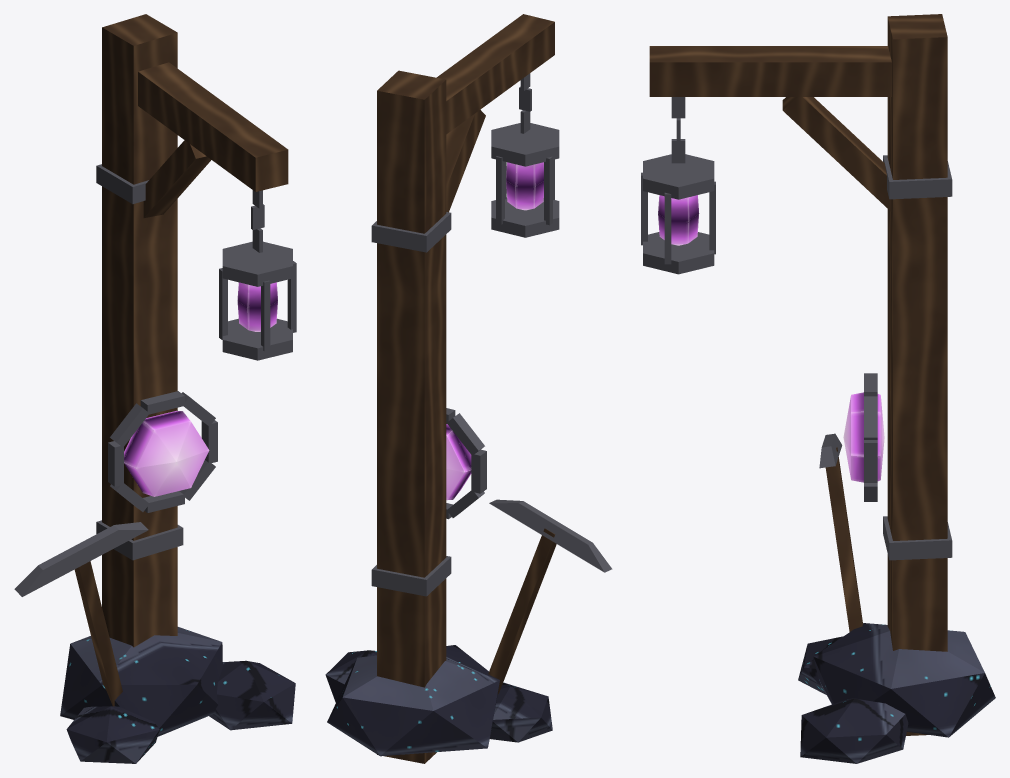
File: miners_lens_post.glb
3 views of the same model, side by side, from view 1: azimuth 30°, elevation 25°; view 2: azimuth 150°, elevation 25°; view 3: azimuth 270°, elevation 25° (orthographic). The views are drawn at different scales.
Parts seen in each view (by area): view 1: miners_lens_post; view 2: miners_lens_post; view 3: miners_lens_post.
Boxes of the visible parts, <box> form: miners_lens_post: <box>14,14,296,763</box>; miners_lens_post: <box>325,14,612,763</box>; miners_lens_post: <box>641,14,995,763</box>.
Bounding box in the file's own units: 1.18 × 2.81 × 1.29.
4 materials, 3 textured.
